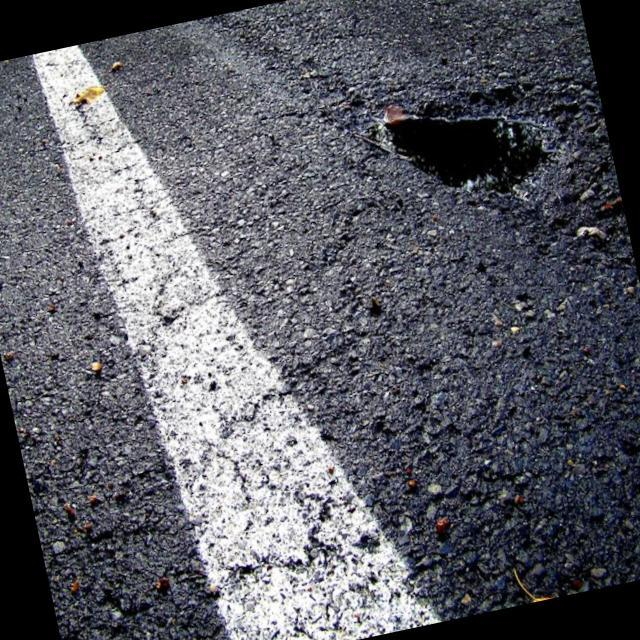Pothole: (361, 48, 589, 234)
